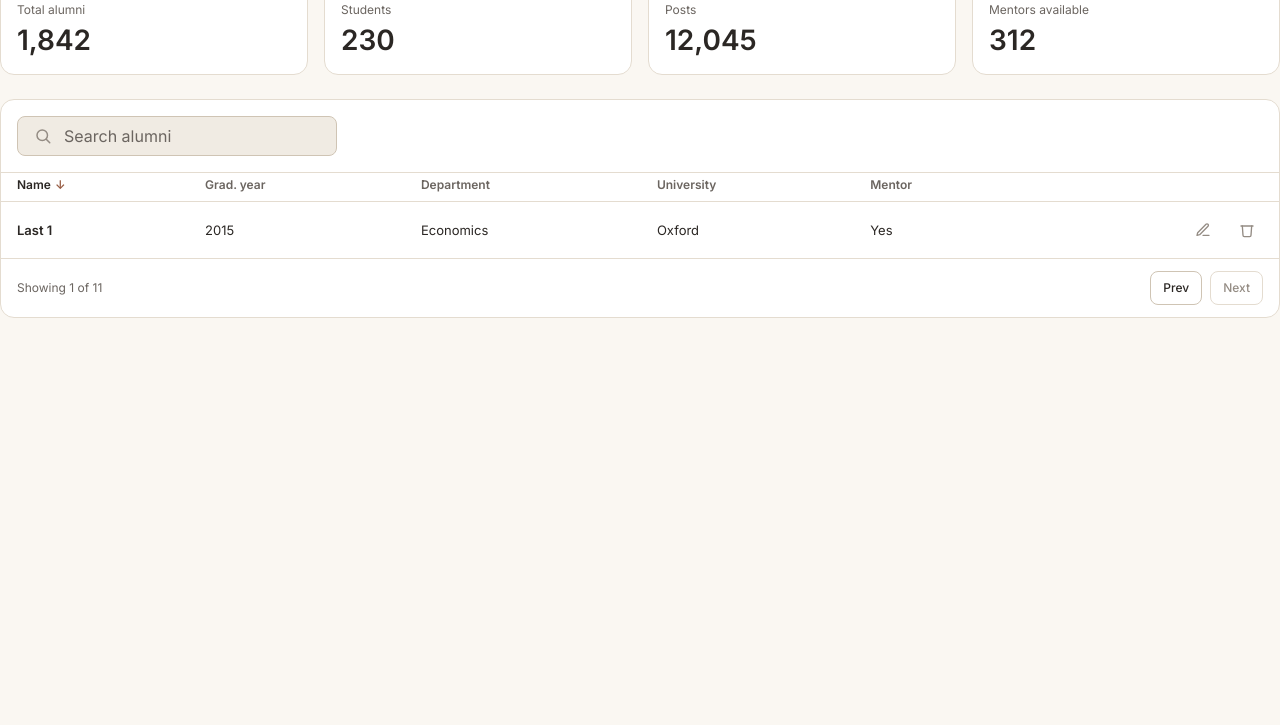
Test: DeleteAlumniDialog › steps back a page when the delete empties the last one
The image size is (1280, 725).
Expected: the column heading "Last 1" is shown, top-left (1, 202), bottom-right (189, 258)
Click the button named "Delete Last 1" at (1247,230), box top-left (1231, 214), bottom-right (1263, 246)
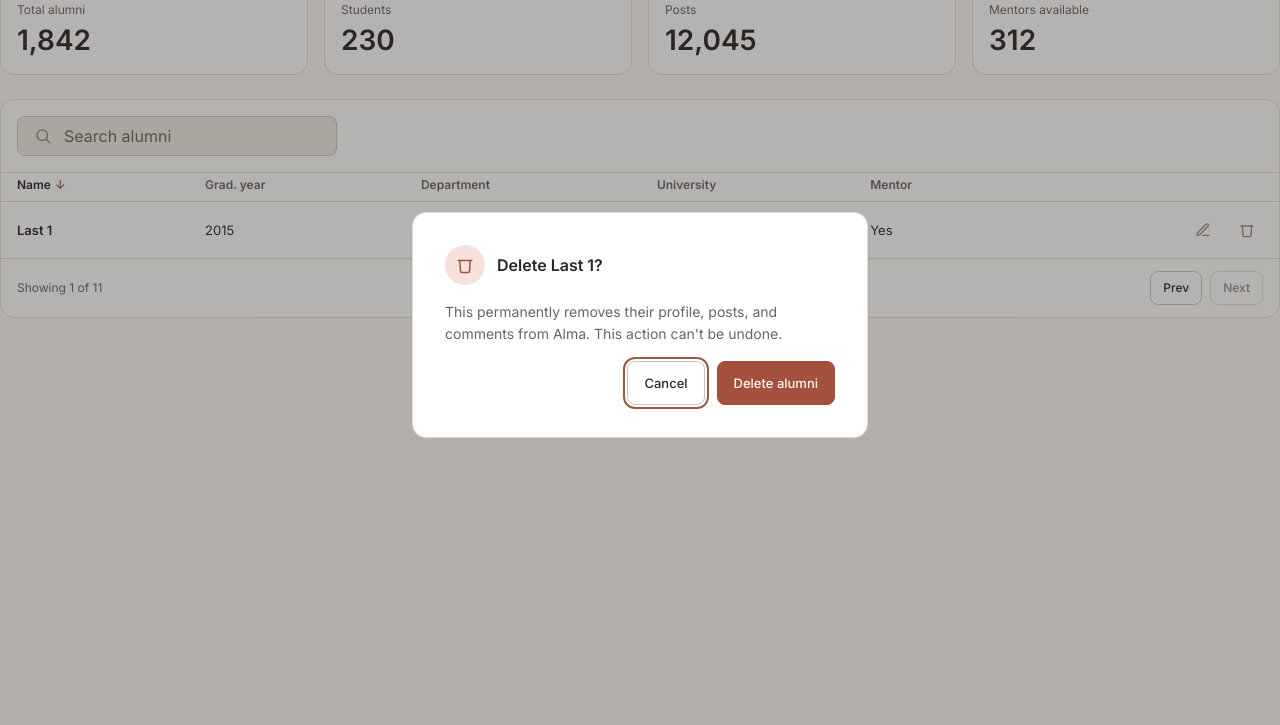
Click the button "Delete alumni" at (776,383), box top-left (716, 361), bottom-right (835, 405)
(page scrolled)
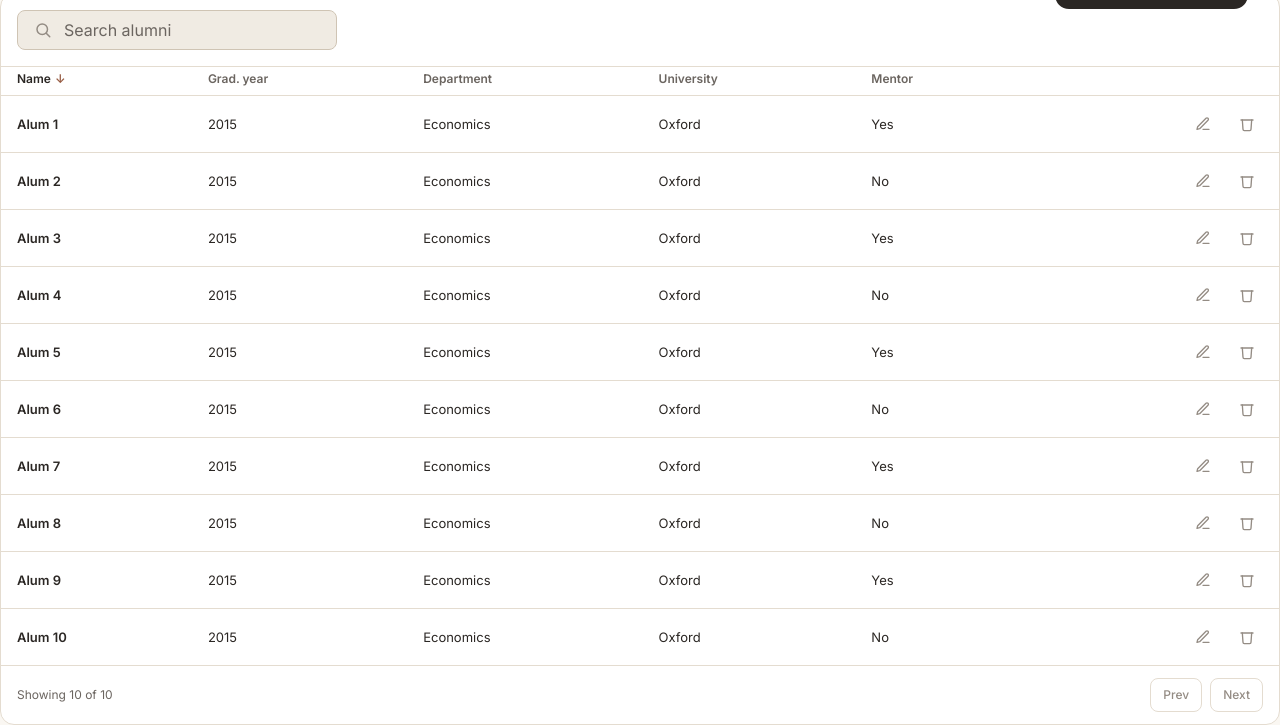
Now the dialog is gone
Now the column heading "Alum 10" is shown, box top-left (1, 608), bottom-right (192, 665)
